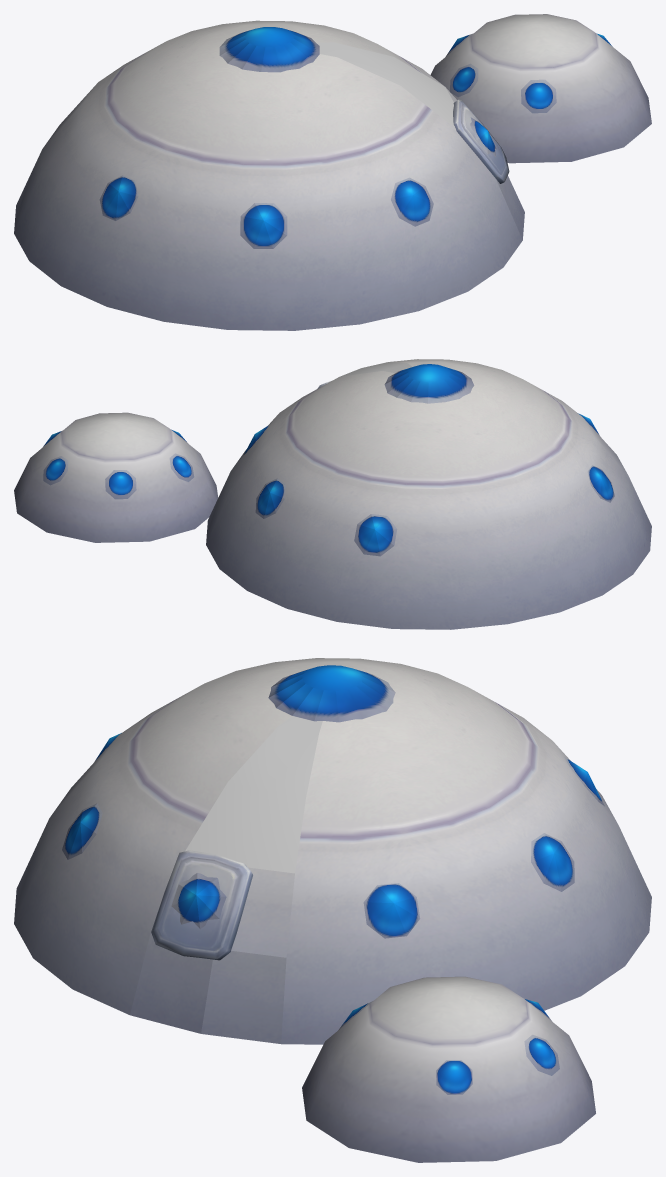
File: nameikexing_jianzhu_05_001.FBX
3 renders of one model, top to bottom at view 1: azimuth 30°, elevation 25°; view 2: azimuth 150°, elevation 25°; view 3: azimuth 270°, elevation 25°, orthographic. The views are drawn at different scales.
Visible parts, largest first — view 1: nameikexing_jianzhu2_, nameikexing_jianzhu_, nameikexing_jianzhu_01, nameikexing_jianzhu2_sui, nameikexing_jianzhu_zhu_, men_01; view 2: nameikexing_jianzhu2_, nameikexing_jianzhu_, nameikexing_jianzhu_01, nameikexing_jianzhu_zhu_, nameikexing_jianzhu2_sui; view 3: nameikexing_jianzhu2_, nameikexing_jianzhu_, nameikexing_jianzhu_01, nameikexing_jianzhu2_sui, men_01, nameikexing_jianzhu_zhu_.
Part boxes in pixels (x1,y1,x2,y2): nameikexing_jianzhu2_: (14,20,524,330); nameikexing_jianzhu_: (430,14,651,163); nameikexing_jianzhu_01: (99,27,496,248); nameikexing_jianzhu2_sui: (316,42,454,127); nameikexing_jianzhu_zhu_: (446,33,612,113); men_01: (453,99,509,183); nameikexing_jianzhu2_: (206,359,651,629); nameikexing_jianzhu_: (14,412,218,542); nameikexing_jianzhu_01: (244,364,614,556); nameikexing_jianzhu_zhu_: (43,429,194,499); nameikexing_jianzhu2_sui: (340,362,411,376); nameikexing_jianzhu2_: (14,658,651,1044); nameikexing_jianzhu_: (302,976,595,1162); nameikexing_jianzhu_01: (62,665,604,938); nameikexing_jianzhu2_sui: (185,716,322,873); men_01: (151,850,252,960); nameikexing_jianzhu_zhu_: (339,999,559,1094).
Size of the model in its own units: 1039 by 302 by 725.
